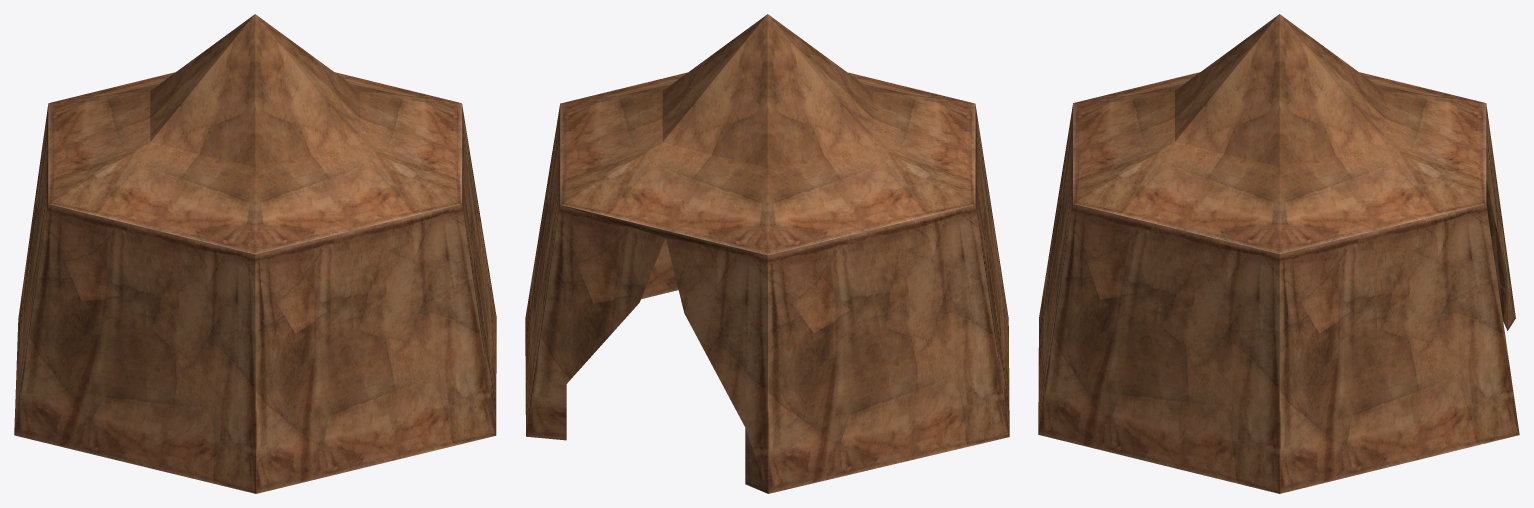
File: poi_tato_tent_s01_l3.fbx
3 renders of one model, left to right at view 1: azimuth 30°, elevation 25°; view 2: azimuth 150°, elevation 25°; view 3: azimuth 270°, elevation 25°, orthographic.
Parts seen in each view (by area): view 1: mesh_node; view 2: mesh_node; view 3: mesh_node.
Part boxes in pixels (bbox=[...]): mesh_node: bbox=[14, 14, 496, 493]; mesh_node: bbox=[525, 14, 1009, 493]; mesh_node: bbox=[1038, 14, 1519, 493].
Bounding box in the file's own units: 8.98 × 6.45 × 7.77.
